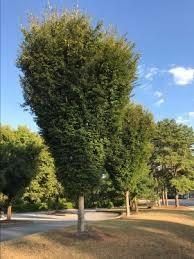tree: (11, 3, 147, 242)
